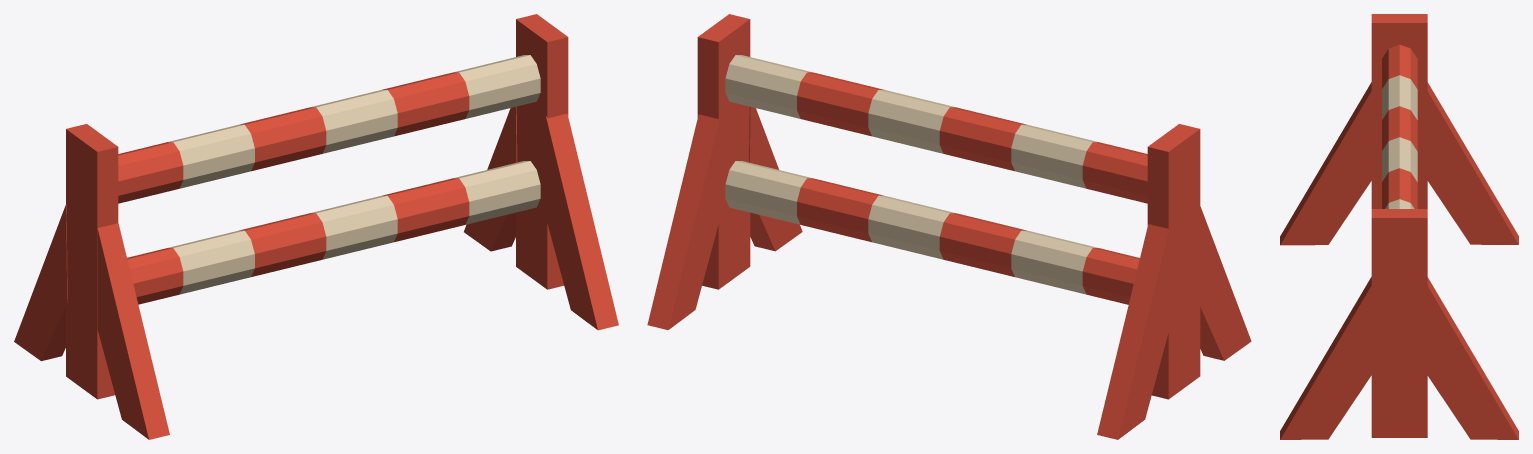
File: Roadwork1.fbx
3 renders of one model, left to right at view 1: azimuth 30°, elevation 25°; view 2: azimuth 150°, elevation 25°; view 3: azimuth 270°, elevation 25°, orthographic. The views are drawn at different scales.
Visible parts, largest first — view 1: post3; view 2: post3; view 3: post3.
Boxes of the visible parts, <box> form: post3: <box>14,14,618,439</box>; post3: <box>647,14,1251,439</box>; post3: <box>1280,14,1518,439</box>.
Size of the model in its own units: 8.63 by 4.38 by 4.26.
